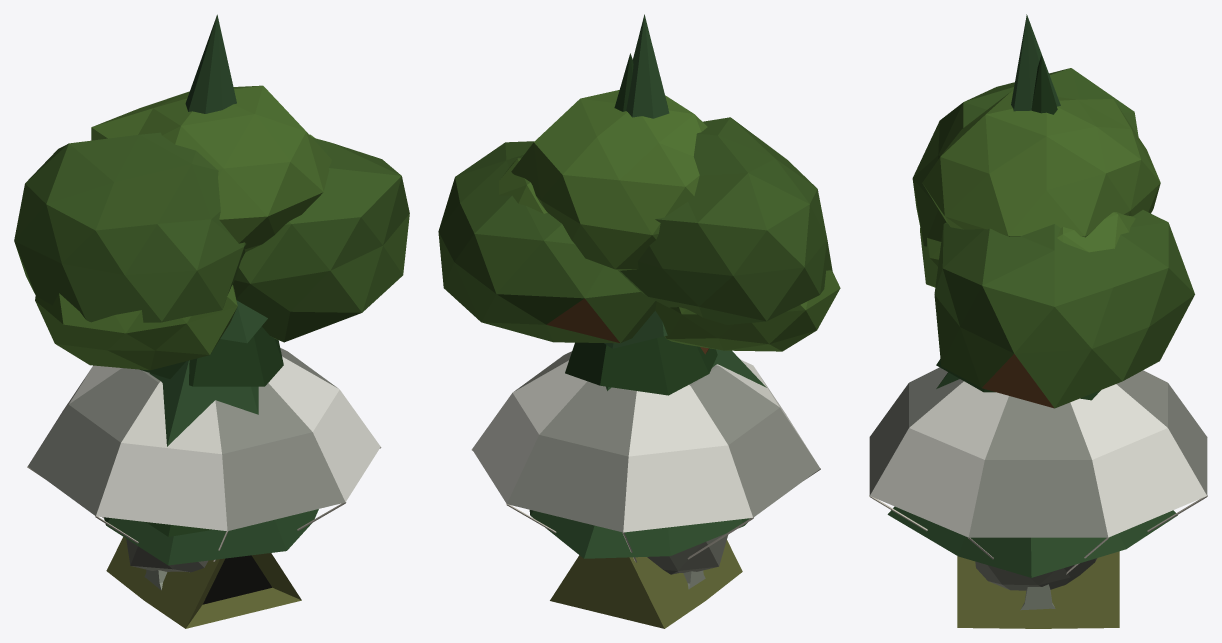
The model's file is props.glb.
The picture shows the model from 3 angles, left to right: view 1: azimuth 30°, elevation 25°; view 2: azimuth 150°, elevation 25°; view 3: azimuth 270°, elevation 25°; orthographic projection. The views are drawn at different scales.
Parts seen in each view (by area): view 1: tree_oak_b, parachute, tree_oak_a, tree_conifer_a, tent, tree_conifer_b, rock_c; view 2: tree_oak_b, parachute, tree_oak_a, tree_conifer_a, tent, tree_conifer_b, rock_c; view 3: parachute, tree_oak_b, tree_oak_a, tree_conifer_a, tent, rock_c, tree_conifer_b, barrier.
Boxes of the visible parts, <box> form: tree_oak_b: <box>14,132,409,342</box>; parachute: <box>27,348,381,561</box>; tree_oak_a: <box>35,85,331,370</box>; tree_conifer_a: <box>104,14,318,565</box>; tent: <box>106,537,301,628</box>; tree_conifer_b: <box>140,326,283,536</box>; rock_c: <box>126,539,207,572</box>; tree_oak_b: <box>438,117,832,343</box>; parachute: <box>471,351,820,562</box>; tree_oak_a: <box>499,90,840,354</box>; tree_conifer_a: <box>529,14,766,558</box>; tent: <box>550,540,742,628</box>; tree_conifer_b: <box>565,53,717,395</box>; rock_c: <box>647,533,727,574</box>; parachute: <box>869,367,1207,574</box>; tree_oak_b: <box>912,68,1194,408</box>; tree_oak_a: <box>920,90,1160,287</box>; tree_conifer_a: <box>887,14,1177,577</box>; tent: <box>957,551,1119,628</box>; rock_c: <box>975,558,1097,590</box>; tree_conifer_b: <box>936,55,1100,400</box>; barrier: <box>1020,584,1055,610</box>.
Bounding box in the file's own units: 5.38 × 8.12 × 4.17.
